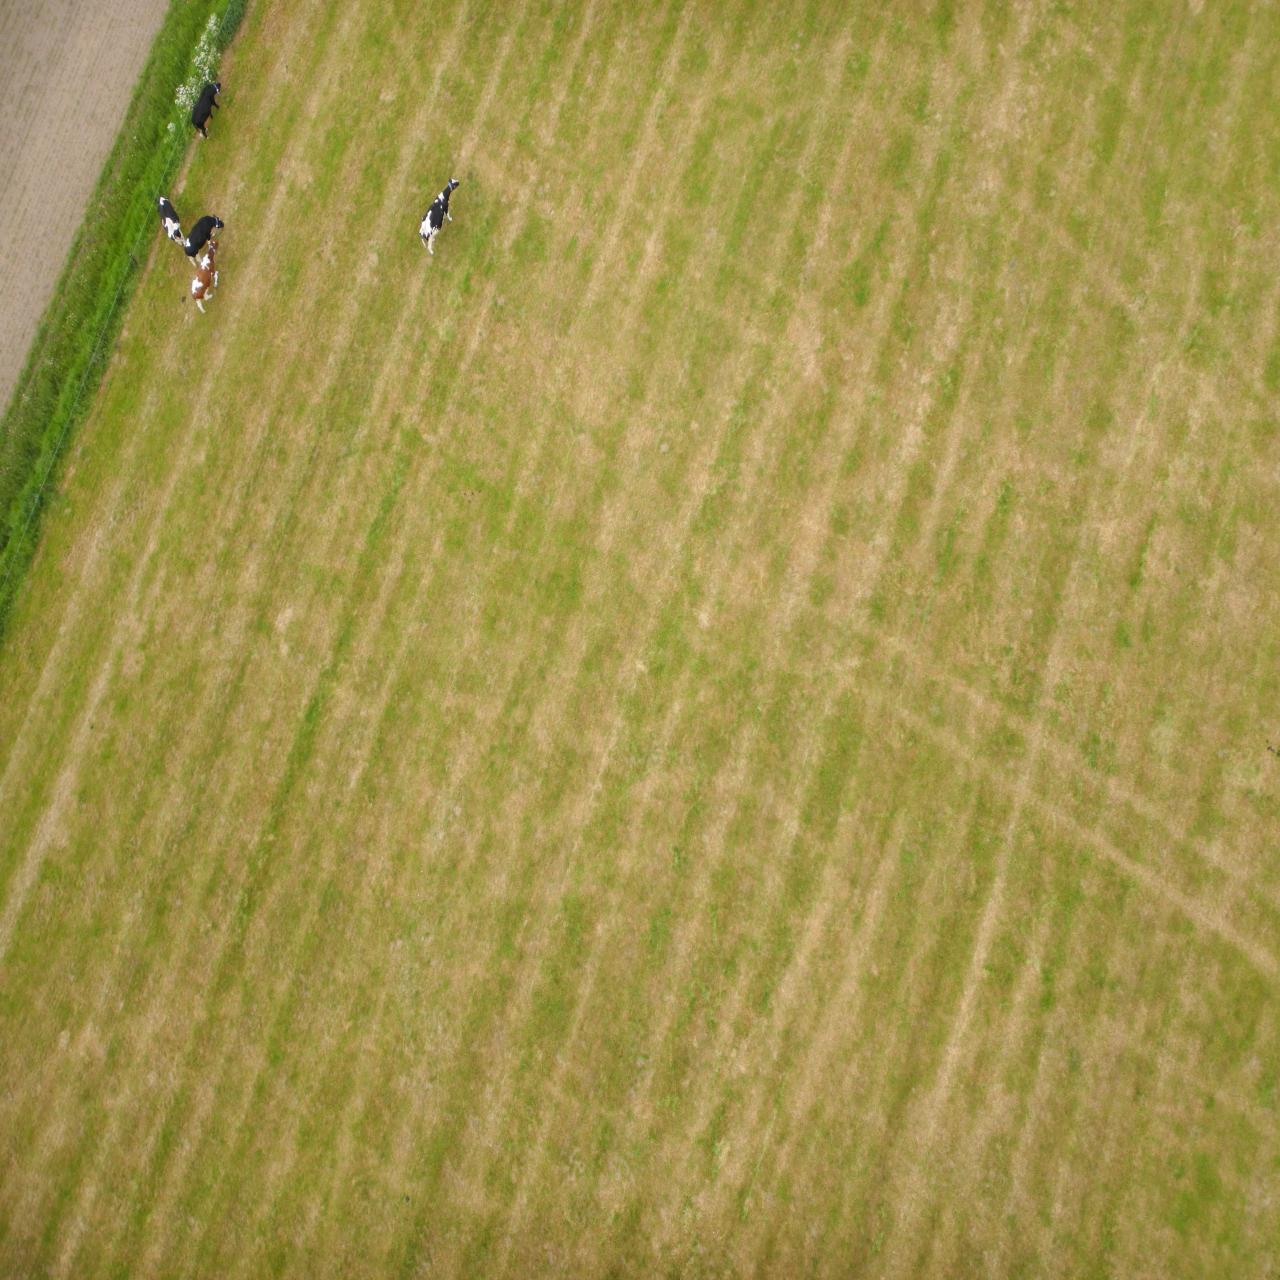cow: (821, 1026, 860, 1103), (1056, 1012, 1095, 1064), (1062, 967, 1088, 1039), (1058, 1141, 1089, 1198), (1094, 1034, 1123, 1084)
